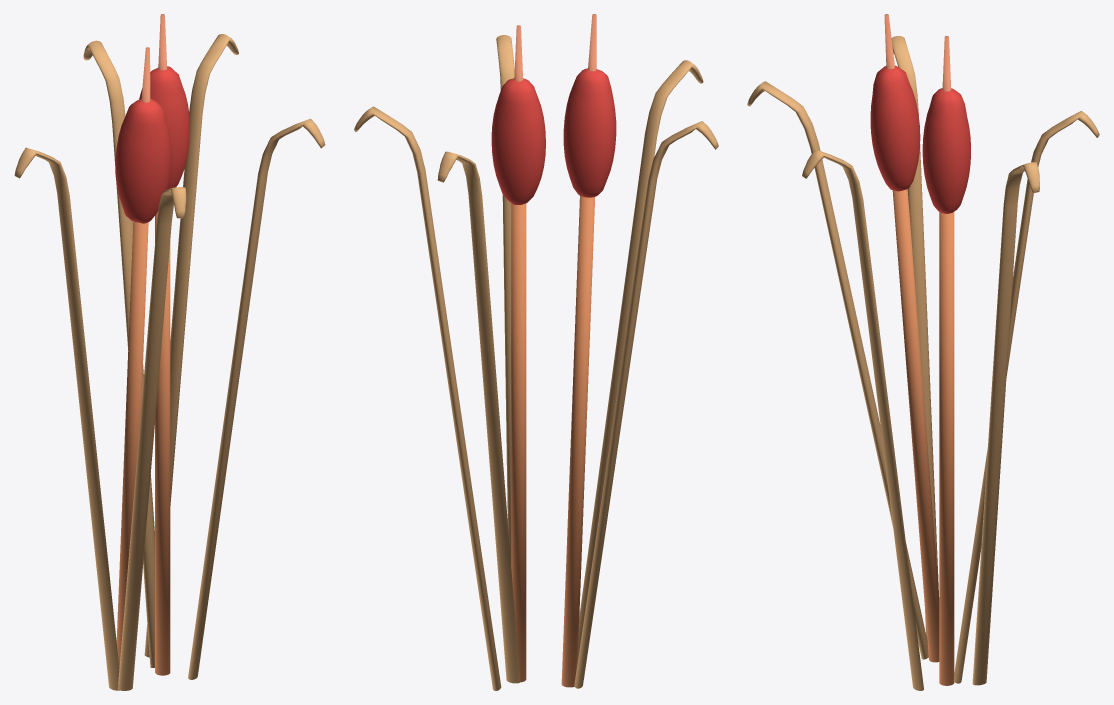
Rendered from hotdog4.glb.
The picture shows the model from 3 angles, left to right: view 1: azimuth 30°, elevation 25°; view 2: azimuth 150°, elevation 25°; view 3: azimuth 270°, elevation 25°; orthographic projection.
Parts seen in each view (by area): view 1: Cylinder.005, Cylinder.008, Cylinder.007, Cylinder.006, Cylinder, Cylinder.003, Sphere.001, Cylinder.002, Sphere; view 2: Cylinder.002, Cylinder.003, Cylinder, Cylinder.006, Cylinder.008, Sphere, Sphere.001, Cylinder.005, Cylinder.007; view 3: Cylinder.006, Cylinder, Cylinder.003, Cylinder.007, Sphere.001, Cylinder.005, Sphere, Cylinder.008, Cylinder.002.
Part boxes in pixels (x1,y1,x2,y2): Cylinder.005: (118,187,186,690); Cylinder.008: (14,147,119,690); Cylinder.007: (188,118,325,679); Cylinder.006: (144,34,238,657); Cylinder: (155,211,170,675); Cylinder.003: (116,221,148,668); Sphere.001: (115,98,171,223); Cylinder.002: (83,40,154,667); Sphere: (139,66,189,189); Cylinder.002: (437,151,520,683); Cylinder.003: (561,196,595,687); Cylinder: (511,203,526,682); Cylinder.006: (354,106,501,690); Cylinder.008: (574,121,718,688); Sphere: (491,78,545,204); Sphere.001: (563,68,616,197); Cylinder.005: (577,60,703,661); Cylinder.007: (496,35,514,564); Cylinder.006: (972,162,1039,685); Cylinder: (939,212,954,685); Cylinder.003: (892,189,939,662); Cylinder.007: (802,149,923,690); Sphere.001: (870,65,920,191); Cylinder.005: (747,81,928,659); Sphere: (922,88,970,213); Cylinder.008: (891,36,938,638); Cylinder.002: (953,111,1099,683).
Size of the model in its own units: 0.8856 by 1.89 by 0.9343.
